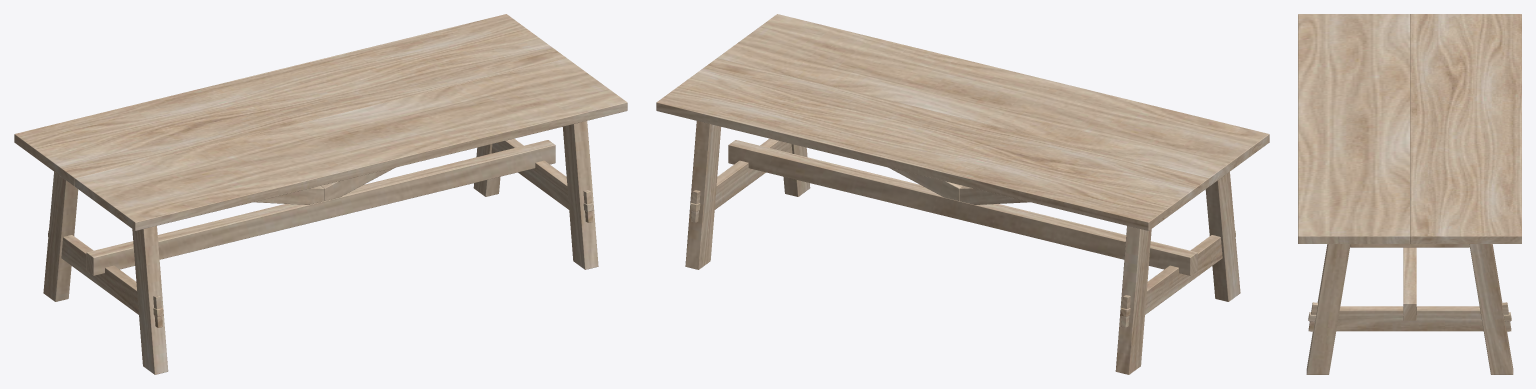
Rendered from dining_table.glb.
3 views of the same model, side by side, from view 1: azimuth 30°, elevation 25°; view 2: azimuth 150°, elevation 25°; view 3: azimuth 270°, elevation 25° (orthographic). The views are drawn at different scales.
Visible parts, largest first — view 1: Table_Untitled.010, Table.016_Untitled.027, Table.003_Untitled.005, Table.006_Untitled.014, Table.015_Untitled.026, Table.009_Untitled.017, Table.008_Untitled.016, Table.014_Untitled.024, Table.002_Untitled.002, Table.001_Untitled.000, Table.012_Untitled.020; view 2: Table.016_Untitled.027, Table_Untitled.010, Table.003_Untitled.005, Table.009_Untitled.017, Table.012_Untitled.020, Table.006_Untitled.014, Table.008_Untitled.016, Table.014_Untitled.024, Table.002_Untitled.002, Table.001_Untitled.000, Table.015_Untitled.026; view 3: Table.016_Untitled.027, Table_Untitled.010, Table.014_Untitled.024, Table.015_Untitled.026, Table.012_Untitled.020, Table.003_Untitled.005, Table.010_Untitled.018.
Part boxes in pixels (x1,y1,x2,y2): Table_Untitled.010: (75,58,627,230); Table.016_Untitled.027: (14,14,566,186); Table.003_Untitled.005: (86,140,555,275); Table.006_Untitled.014: (132,226,168,374); Table.015_Untitled.026: (563,121,598,269); Table.009_Untitled.017: (43,172,78,301); Table.008_Untitled.016: (61,235,162,327); Table.014_Untitled.024: (491,138,592,222); Table.002_Untitled.002: (321,168,394,200); Table.001_Untitled.000: (254,186,324,204); Table.012_Untitled.020: (473,144,500,196); Table.016_Untitled.027: (656,58,1208,230); Table_Untitled.010: (717,14,1269,186); Table.003_Untitled.005: (728,140,1197,275); Table.009_Untitled.017: (1115,226,1151,374); Table.012_Untitled.020: (685,121,720,269); Table.006_Untitled.014: (1205,172,1240,301); Table.008_Untitled.016: (1121,235,1222,327); Table.014_Untitled.024: (690,138,792,222); Table.002_Untitled.002: (889,168,962,200); Table.001_Untitled.000: (959,186,1029,204); Table.015_Untitled.026: (783,144,810,196); Table.016_Untitled.027: (1410,14,1521,243); Table_Untitled.010: (1298,14,1409,243); Table.014_Untitled.024: (1308,302,1511,331); Table.015_Untitled.026: (1306,244,1350,374); Table.012_Untitled.020: (1469,244,1513,374); Table.003_Untitled.005: (1403,247,1416,320); Table.010_Untitled.018: (1350,244,1469,247).
Bounding box in the file's own units: 2.35 × 0.739 × 1.
2 materials, 2 textured.
